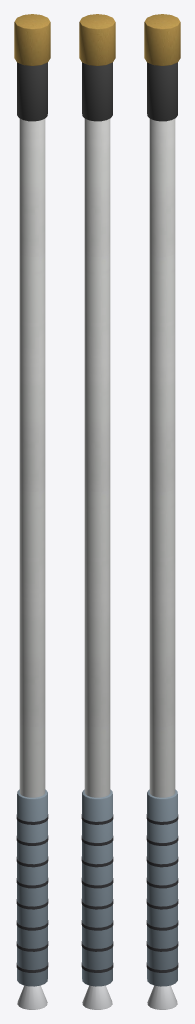
Rendered from TER-REB-001.glb.
3 renders of one model, left to right at view 1: azimuth 30°, elevation 25°; view 2: azimuth 150°, elevation 25°; view 3: azimuth 330°, elevation 25°, orthographic.
Parts seen in each view (by area): view 1: TER-REB-001_tubo, TER-REB-001_filtro, TER-REB-001_registro, TER-REB-001_curva, TER-REB-001_ponta; view 2: TER-REB-001_tubo, TER-REB-001_filtro, TER-REB-001_registro, TER-REB-001_curva, TER-REB-001_ponta; view 3: TER-REB-001_tubo, TER-REB-001_filtro, TER-REB-001_registro, TER-REB-001_curva, TER-REB-001_ponta.
Part boxes in pixels (box(x1,y1,x2,y2)): TER-REB-001_tubo: box(19, 118, 45, 797); TER-REB-001_filtro: box(17, 789, 47, 986); TER-REB-001_registro: box(14, 14, 50, 65); TER-REB-001_curva: box(17, 62, 47, 121); TER-REB-001_ponta: box(17, 985, 47, 1009); TER-REB-001_tubo: box(84, 118, 110, 797); TER-REB-001_filtro: box(82, 789, 112, 986); TER-REB-001_registro: box(79, 14, 115, 65); TER-REB-001_curva: box(82, 62, 112, 121); TER-REB-001_ponta: box(82, 985, 112, 1009); TER-REB-001_tubo: box(149, 118, 175, 797); TER-REB-001_filtro: box(147, 789, 177, 986); TER-REB-001_registro: box(144, 14, 180, 65); TER-REB-001_curva: box(147, 62, 177, 121); TER-REB-001_ponta: box(147, 985, 177, 1009).
Bounding box in the file's own units: 0.07 × 2.09 × 0.07.
Materials: 6 (2 with a texture image).
